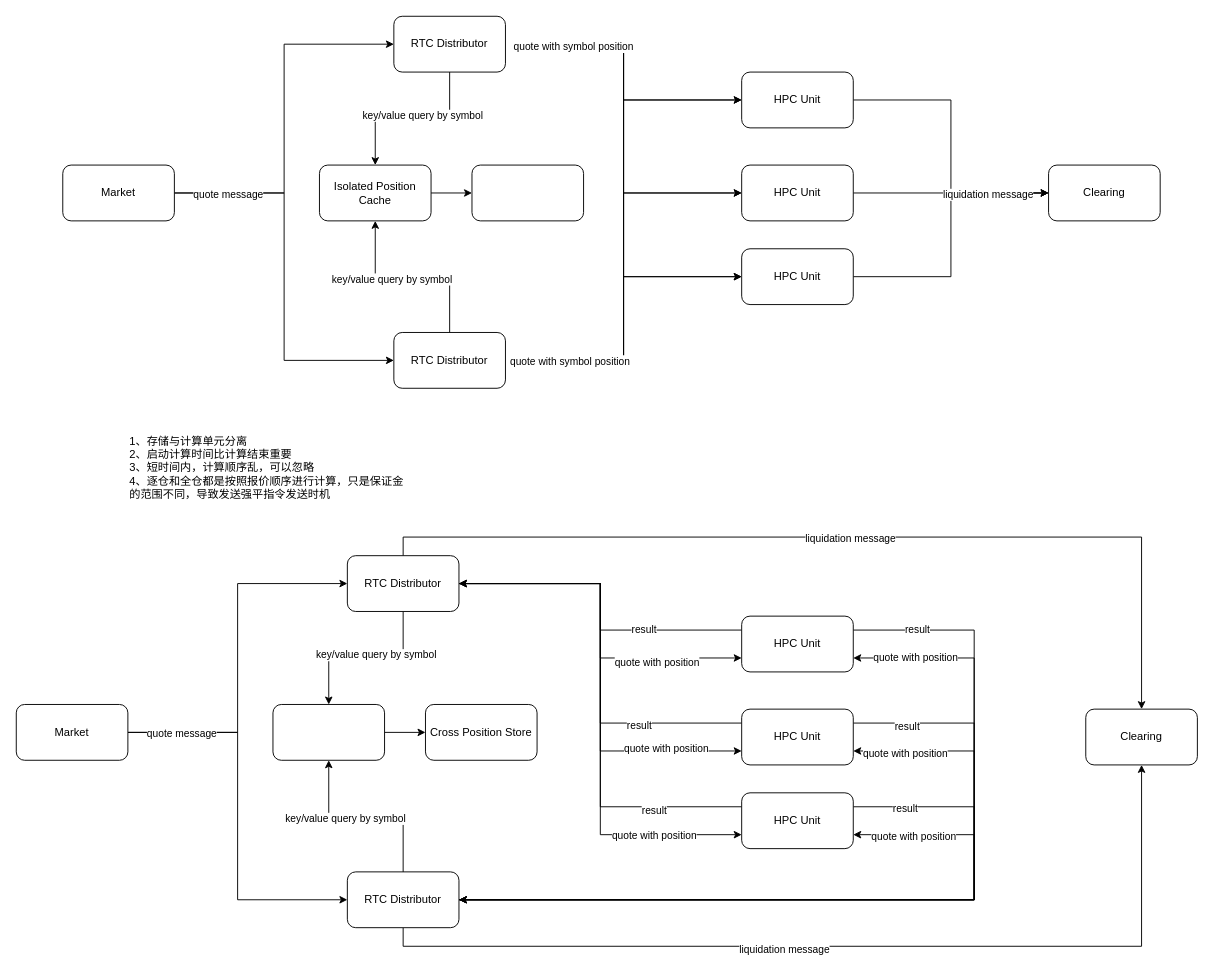
Some shapes in this 1214 by 972 pixel diagram are drawn without their labels. The centre of each missing label's shape, as x and y in pixels:
Cross Position Cache: the point at 328,732
Isolated Position Store: the point at 527,192
